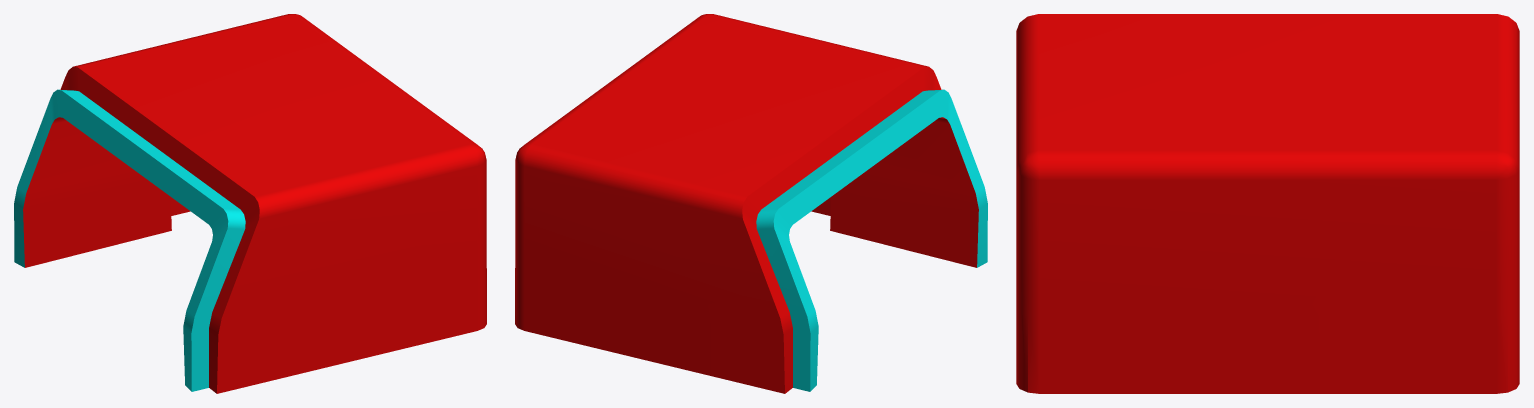
Rendered from rrrrr.fbx.
3 renders of one model, left to right at view 1: azimuth 30°, elevation 25°; view 2: azimuth 150°, elevation 25°; view 3: azimuth 270°, elevation 25°, orthographic. The views are drawn at different scales.
Parts seen in each view (by area): view 1: ExtraxtensionModule; view 2: ExtraxtensionModule; view 3: ExtraxtensionModule.
Part boxes in pixels (x1,y1,x2,y2): ExtraxtensionModule: (14,14,486,393); ExtraxtensionModule: (515,14,987,393); ExtraxtensionModule: (1016,14,1519,393).
Size of the model in its own units: 98.26 by 57.64 by 112.
